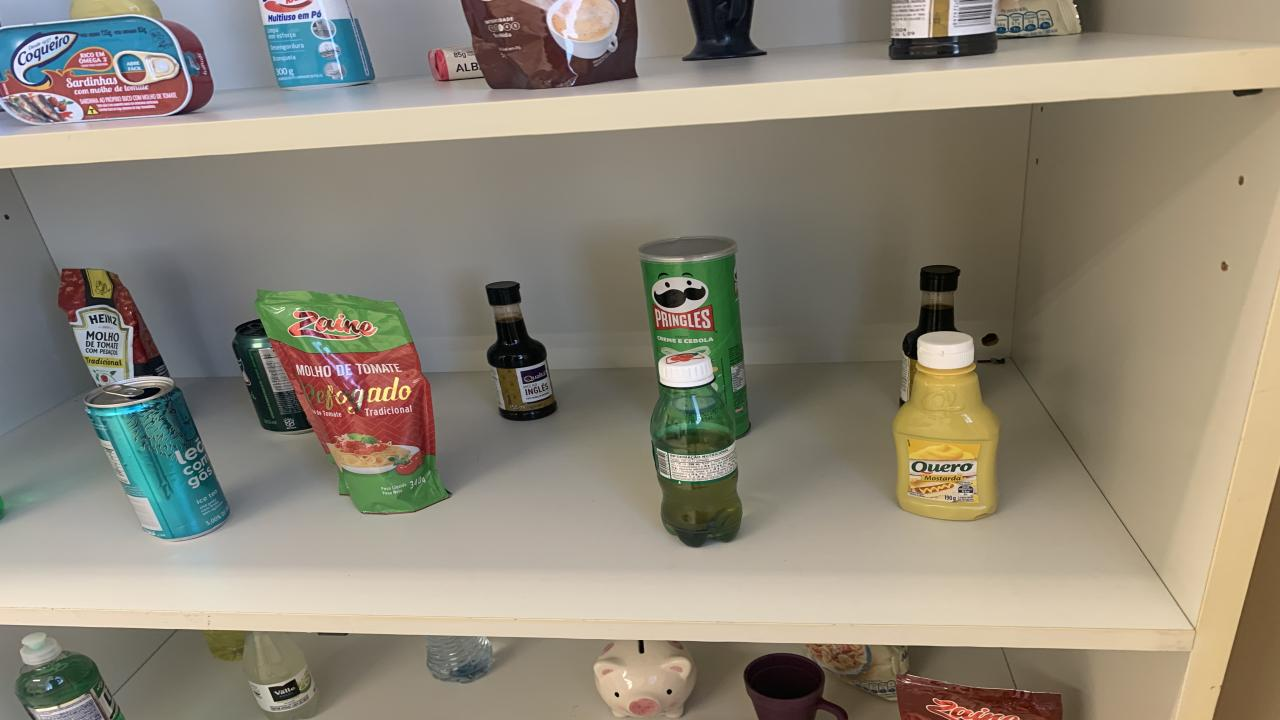Cleaner-Cleanup_Items: (260, 0, 375, 90)
Coffee-Pantry_Items: (462, 0, 638, 88)
Detergent-Cleanup_Items: (15, 632, 122, 720), (202, 630, 245, 662)
English_Sauce-Pantry_Items: (488, 281, 555, 420), (900, 264, 960, 405), (890, 0, 998, 60)
Flakes-Snacks: (808, 643, 910, 701), (995, 0, 1082, 38)
Guarana-Drinks: (650, 354, 742, 548)
Guarana_Can-Drinks: (232, 319, 310, 433)
Mustard-Pantry_Items: (892, 332, 1000, 519), (70, 0, 162, 19)
Pig_Safe-Miscellaneous: (592, 641, 698, 718)
Pringles-Snacks: (638, 236, 750, 435)
Soap-Cleanup_Items: (428, 45, 482, 81)
Soda-Drinks: (242, 632, 318, 720)
Tea-Drinks: (82, 375, 230, 540)
Tomato_Sauce-Pantry_Items: (255, 291, 448, 514), (58, 268, 170, 384), (895, 673, 1062, 720)
Tuna_Can-Pantry_Items: (0, 15, 212, 126)
Water_Bottle-Drinks: (425, 636, 492, 682)
